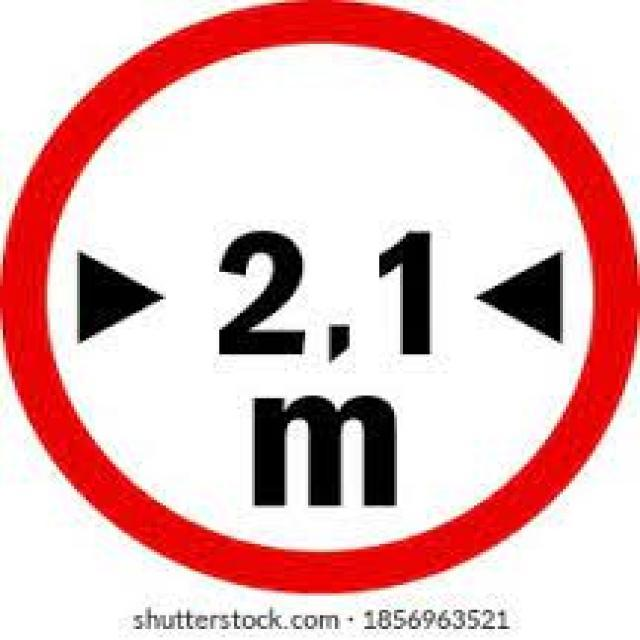width limit: (16, 14, 628, 590)
